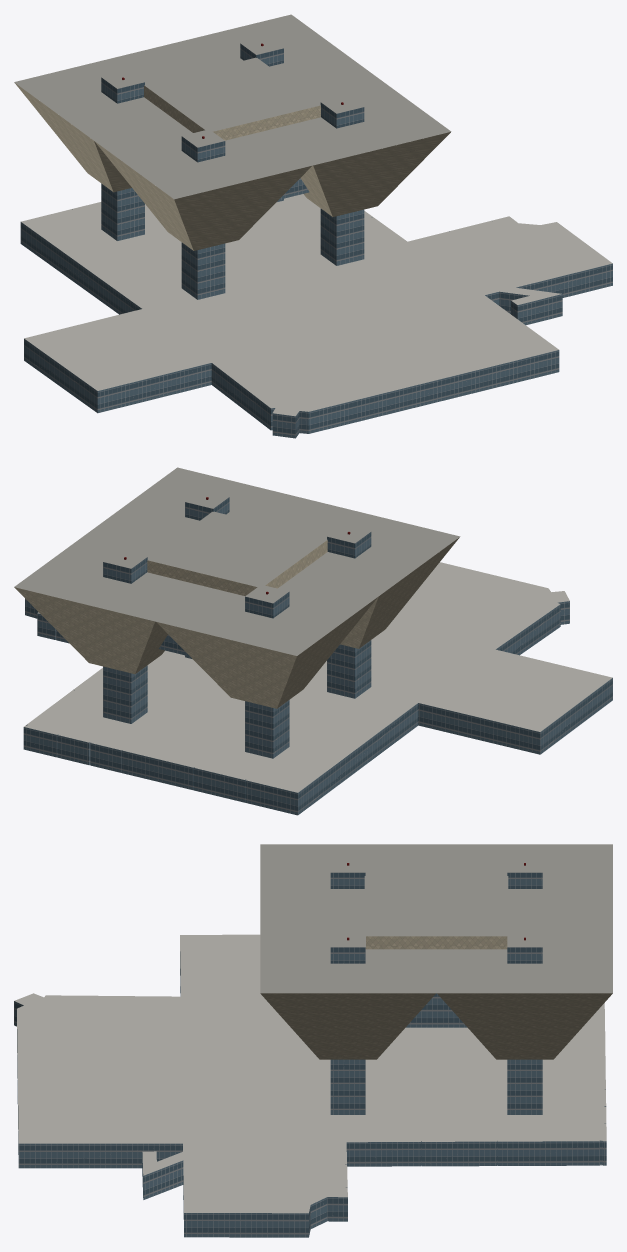
File: tokyo_intl_exhibition.glb
3 renders of one model, top to bottom at view 1: azimuth 30°, elevation 25°; view 2: azimuth 150°, elevation 25°; view 3: azimuth 270°, elevation 25°, orthographic. The views are drawn at different scales.
Parts seen in each view (by area): view 1: TokyoIntlExhibition_Near; view 2: TokyoIntlExhibition_Near; view 3: TokyoIntlExhibition_Near.
Boxes of the visible parts, x1,y1,x2,y2 form: TokyoIntlExhibition_Near: [14, 14, 612, 438]; TokyoIntlExhibition_Near: [14, 467, 612, 815]; TokyoIntlExhibition_Near: [14, 844, 612, 1237].
Bounding box in the file's own units: 184 × 59.6 × 167.
Materials: 6 (2 with a texture image).
